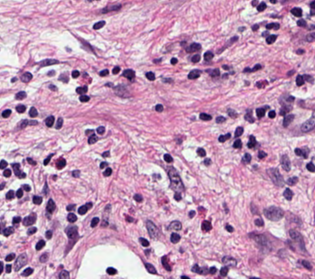nucleus: (168, 167, 183, 191), (267, 168, 283, 185), (264, 206, 283, 220), (289, 229, 303, 247), (301, 115, 314, 131), (146, 220, 158, 237), (114, 85, 128, 97), (255, 235, 269, 247), (280, 154, 289, 170), (39, 59, 58, 66), (283, 114, 294, 126), (66, 226, 77, 238), (161, 256, 170, 270), (222, 256, 236, 265), (46, 199, 55, 212), (168, 221, 181, 230), (123, 69, 134, 79), (145, 263, 156, 273), (188, 69, 200, 78), (283, 188, 292, 200), (187, 43, 200, 51), (201, 221, 211, 231), (218, 133, 230, 141), (247, 135, 255, 147), (45, 116, 54, 126), (43, 154, 52, 164), (170, 233, 180, 242), (76, 86, 87, 94), (199, 113, 211, 120), (204, 51, 213, 60), (234, 127, 243, 136), (78, 205, 87, 214), (67, 213, 76, 222), (254, 217, 263, 226), (139, 237, 148, 246), (35, 240, 44, 249), (302, 260, 311, 269), (266, 35, 276, 43), (57, 158, 65, 168), (287, 176, 297, 184), (220, 265, 228, 275), (256, 80, 267, 87), (29, 107, 37, 116), (256, 108, 264, 117), (245, 113, 253, 122), (88, 134, 96, 143), (233, 139, 241, 148), (242, 153, 250, 162), (306, 162, 314, 171), (209, 69, 219, 76), (296, 75, 303, 85), (79, 94, 89, 101), (106, 267, 116, 274), (306, 33, 314, 41), (191, 54, 199, 62), (146, 72, 154, 80), (228, 109, 236, 117), (197, 148, 205, 156), (164, 154, 172, 162), (103, 168, 111, 176), (33, 196, 41, 204), (40, 253, 48, 261), (191, 264, 199, 272), (91, 217, 98, 226), (59, 271, 68, 278), (251, 64, 261, 70), (56, 118, 62, 128), (96, 126, 104, 133), (174, 192, 181, 200), (134, 194, 142, 201), (225, 224, 233, 231), (303, 75, 312, 81), (216, 116, 225, 122), (112, 66, 119, 73), (100, 69, 107, 76), (72, 70, 79, 77), (155, 104, 162, 111), (268, 110, 275, 117), (258, 151, 265, 158), (209, 267, 216, 274), (301, 149, 307, 157), (66, 204, 74, 210), (44, 183, 48, 194), (49, 84, 56, 90), (295, 148, 301, 155), (72, 170, 79, 176), (204, 159, 210, 165), (100, 162, 106, 168), (102, 151, 109, 156), (46, 231, 51, 238), (287, 70, 293, 75), (189, 211, 194, 217), (126, 216, 132, 221), (171, 58, 176, 63), (86, 203, 91, 208), (297, 49, 303, 53), (244, 68, 251, 71), (85, 130, 92, 133), (48, 71, 53, 75), (223, 65, 228, 68), (181, 276, 188, 278)
